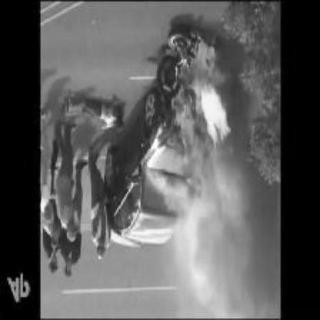Smoke: (153, 176, 278, 320)
